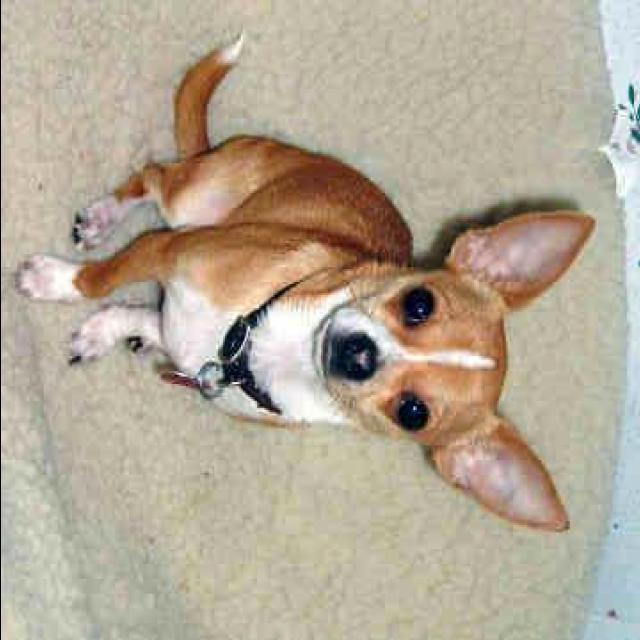chihuahua: (9, 30, 599, 536)
